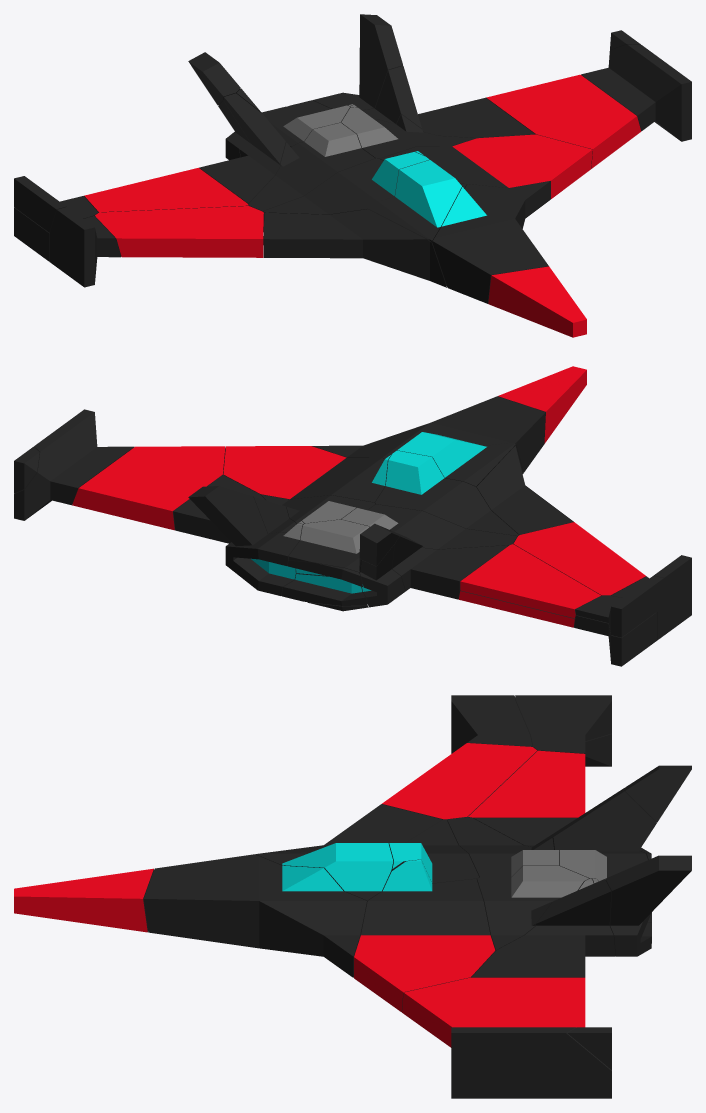
Rendered from Enemy_Air_Modular_Medium_Frac.fbx.
3 views of the same model, one above another, from view 1: azimuth 30°, elevation 25°; view 2: azimuth 150°, elevation 25°; view 3: azimuth 270°, elevation 25° (orthographic). The views are drawn at different scales.
Parts seen in each view (by area): view 1: ModularJet_cell.114, ModularJet_cell.110, ModularJet_cell.116, ModularJet_cell.103, ModularJet_cell.115, ModularJet_cell.113, ModularJet_cell.127, ModularJet_cell.111, ModularJet_cell.126, ModularJet_cell.112, ModularJet_cell.121, ModularJet_cell.123 (+9 smaller); view 2: ModularJet_cell.103, ModularJet_cell.115, ModularJet_cell.117, ModularJet_cell.114, ModularJet_cell.113, ModularJet_cell.126, ModularJet_cell.112, ModularJet_cell.116, ModularJet_cell.123, ModularJet_cell.110, ModularJet_cell.127, ModularJet_cell.124 (+13 smaller); view 3: ModularJet_cell.114, ModularJet_cell.115, ModularJet_cell.113, ModularJet_cell.103, ModularJet_cell.111, ModularJet_cell.116, ModularJet_cell.121, ModularJet_cell.112, ModularJet_cell.122, ModularJet_cell.117, ModularJet_cell.104, ModularJet_cell.118 (+9 smaller).
Boxes of the visible parts, x1,y1,x2,y2 form: ModularJet_cell.114: (432,181,550,303); ModularJet_cell.110: (263,209,446,287); ModularJet_cell.116: (95,206,263,257); ModularJet_cell.103: (486,74,641,168); ModularJet_cell.115: (380,134,592,199); ModularJet_cell.113: (581,44,691,141); ModularJet_cell.127: (248,122,375,222); ModularJet_cell.111: (350,66,535,138); ModularJet_cell.126: (263,152,429,220); ModularJet_cell.112: (84,167,248,212); ModularJet_cell.121: (488,266,586,337); ModularJet_cell.123: (199,93,291,204); ModularJet_cell.103: (72,446,225,530); ModularJet_cell.115: (223,446,391,502); ModularJet_cell.117: (188,486,303,595); ModularJet_cell.114: (312,396,545,473); ModularJet_cell.113: (14,409,134,520); ModularJet_cell.126: (375,450,518,536); ModularJet_cell.112: (460,544,601,618); ModularJet_cell.116: (513,522,646,595); ModularJet_cell.123: (391,531,508,599); ModularJet_cell.110: (476,445,573,535); ModularJet_cell.127: (341,504,517,549); ModularJet_cell.124: (383,432,515,486); ModularJet_cell.114: (143,854,367,977); ModularJet_cell.115: (354,859,495,1012); ModularJet_cell.113: (451,1027,611,1098); ModularJet_cell.103: (402,977,585,1047); ModularJet_cell.111: (471,878,615,977); ModularJet_cell.116: (382,743,537,820); ModularJet_cell.121: (14,868,153,932); ModularJet_cell.112: (468,750,585,817); ModularJet_cell.122: (477,865,589,950); ModularJet_cell.117: (592,855,691,956); ModularJet_cell.104: (559,791,656,881); ModularJet_cell.118: (515,695,611,753).
Bounding box in the file's own units: 24.59 × 3.98 × 20.85.
